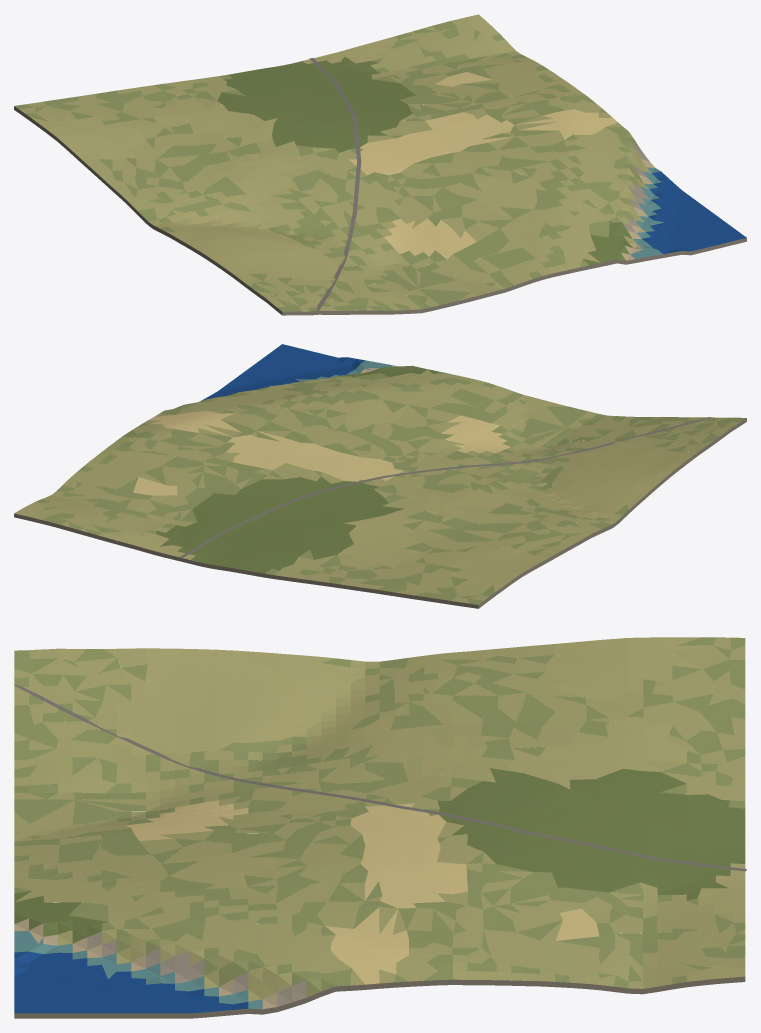
Rendered from parca_+14_-4-uzak.glb.
3 renders of one model, top to bottom at view 1: azimuth 30°, elevation 25°; view 2: azimuth 150°, elevation 25°; view 3: azimuth 270°, elevation 25°, orthographic. The views are drawn at different scales.
Parts seen in each view (by area): view 1: parca_+14_-4_arazi_uzak, parca_+14_-4_yollar_uzak; view 2: parca_+14_-4_arazi_uzak, parca_+14_-4_yollar_uzak; view 3: parca_+14_-4_arazi_uzak, parca_+14_-4_yollar_uzak.
Boxes of the visible parts, left/top/right/bottom form: parca_+14_-4_arazi_uzak: left=14, top=14, right=746, bottom=315; parca_+14_-4_yollar_uzak: left=309, top=58, right=361, bottom=310; parca_+14_-4_arazi_uzak: left=14, top=344, right=746, bottom=608; parca_+14_-4_yollar_uzak: left=179, top=417, right=710, bottom=558; parca_+14_-4_arazi_uzak: left=14, top=637, right=745, bottom=1018; parca_+14_-4_yollar_uzak: left=14, top=685, right=746, bottom=871.
Size of the model in its own units: 1000 by 109 by 1003.
